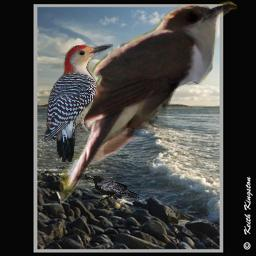Crow: (87, 175, 141, 202)
Cuckoo: (60, 0, 237, 211)
Woodpecker: (44, 44, 113, 162)
